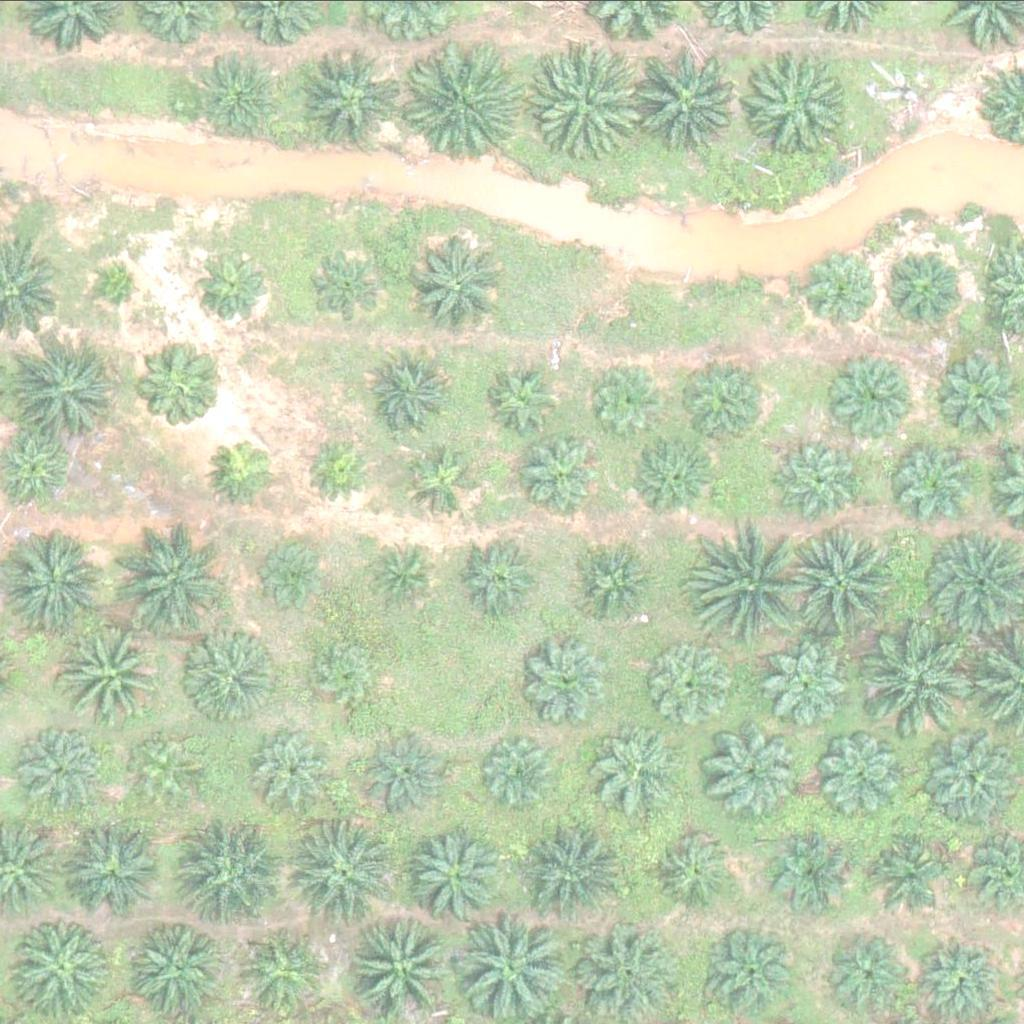Kelapa_Sawit: (403, 43, 517, 156), (527, 47, 640, 160), (699, 525, 812, 638), (524, 820, 637, 933), (636, 41, 750, 153), (346, 906, 460, 1018), (792, 528, 905, 640), (865, 625, 978, 737), (175, 820, 288, 932), (289, 819, 402, 931), (115, 518, 228, 630), (6, 326, 119, 438), (745, 50, 846, 150), (409, 235, 510, 335), (411, 824, 512, 924), (130, 916, 231, 1016), (6, 917, 107, 1017), (61, 817, 162, 917), (61, 625, 162, 725), (300, 48, 401, 148), (180, 624, 280, 724), (515, 430, 604, 518), (303, 238, 392, 326), (459, 532, 547, 620), (575, 544, 663, 632), (682, 360, 770, 448), (892, 437, 980, 525), (718, 728, 806, 816), (819, 728, 907, 816), (704, 928, 792, 1016), (650, 827, 738, 915), (651, 638, 739, 726), (231, 922, 319, 1010), (364, 729, 452, 817), (246, 722, 334, 810), (129, 338, 217, 426), (368, 344, 456, 432), (630, 432, 718, 519), (778, 439, 866, 526), (835, 350, 923, 437), (881, 243, 969, 330), (930, 354, 1018, 441), (829, 931, 917, 1018), (913, 930, 1001, 1017), (860, 824, 948, 911), (763, 832, 851, 919), (522, 637, 610, 724), (764, 640, 852, 727), (595, 726, 683, 813), (13, 725, 101, 812), (185, 241, 273, 328), (188, 54, 276, 141), (485, 734, 561, 809), (256, 536, 332, 611), (595, 361, 671, 436), (808, 252, 884, 327), (368, 538, 444, 613), (206, 431, 281, 506), (127, 730, 202, 805), (406, 446, 481, 521), (311, 632, 386, 707), (490, 358, 565, 433), (302, 431, 377, 506), (100, 259, 150, 309)
